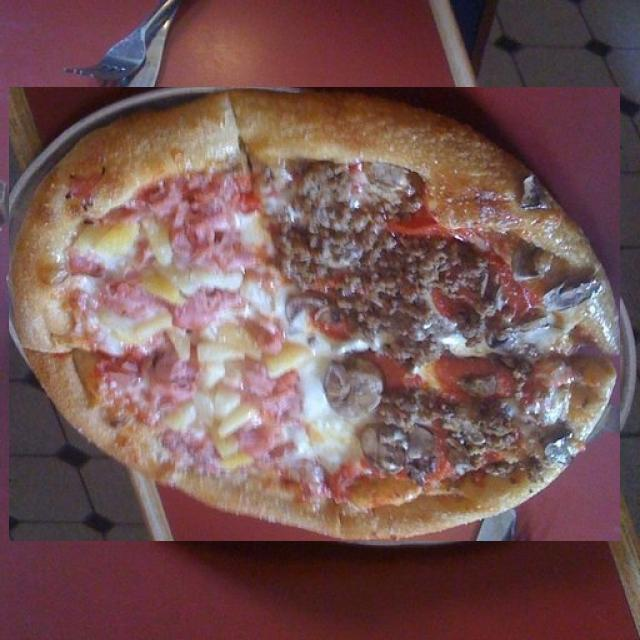pizza: (9, 87, 622, 541)
